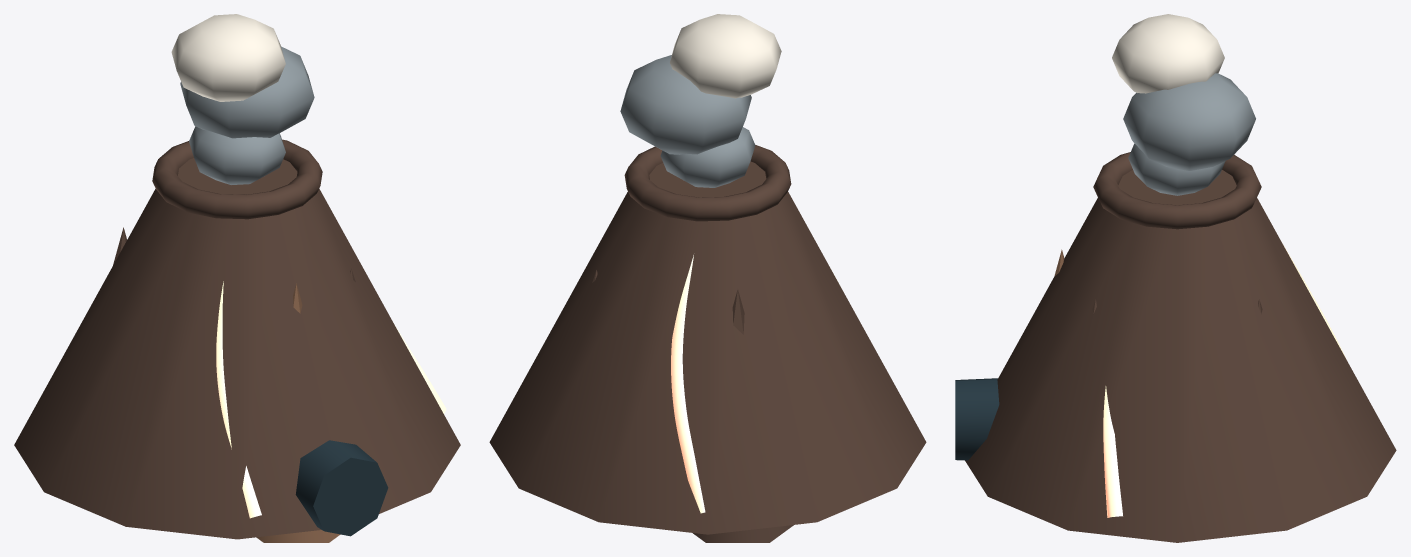
The model's file is volcano-peak.glb.
3 renders of one model, left to right at view 1: azimuth 30°, elevation 25°; view 2: azimuth 150°, elevation 25°; view 3: azimuth 270°, elevation 25°, orthographic. The views are drawn at different scales.
Parts seen in each view (by area): view 1: Mesh_cliffDark, Mesh_stoneGray, Mesh_warmWhite, Mesh_iron, Mesh_glowCoral, Mesh_cliffRock; view 2: Mesh_cliffDark, Mesh_stoneGray, Mesh_warmWhite, Mesh_glowCoral; view 3: Mesh_cliffDark, Mesh_stoneGray, Mesh_warmWhite, Mesh_iron, Mesh_glowCoral.
Boxes of the visible parts, x1,y1,x2,y2 form: Mesh_cliffDark: (14,139,460,539); Mesh_stoneGray: (180,46,314,184); Mesh_warmWhite: (171,14,285,101); Mesh_iron: (295,440,388,536); Mesh_glowCoral: (216,281,446,518); Mesh_cliffRock: (256,283,340,542); Mesh_cliffDark: (489,145,926,542); Mesh_stoneGray: (620,55,755,187); Mesh_warmWhite: (670,14,781,98); Mesh_glowCoral: (671,255,837,513); Mesh_cliffDark: (965,152,1396,542); Mesh_stoneGray: (1123,73,1255,195); Mesh_warmWhite: (1112,14,1224,93); Mesh_iron: (955,378,999,460); Mesh_glowCoral: (1103,245,1345,517).
Bounding box in the file's own units: 14.4 × 16.42 × 14.5.
